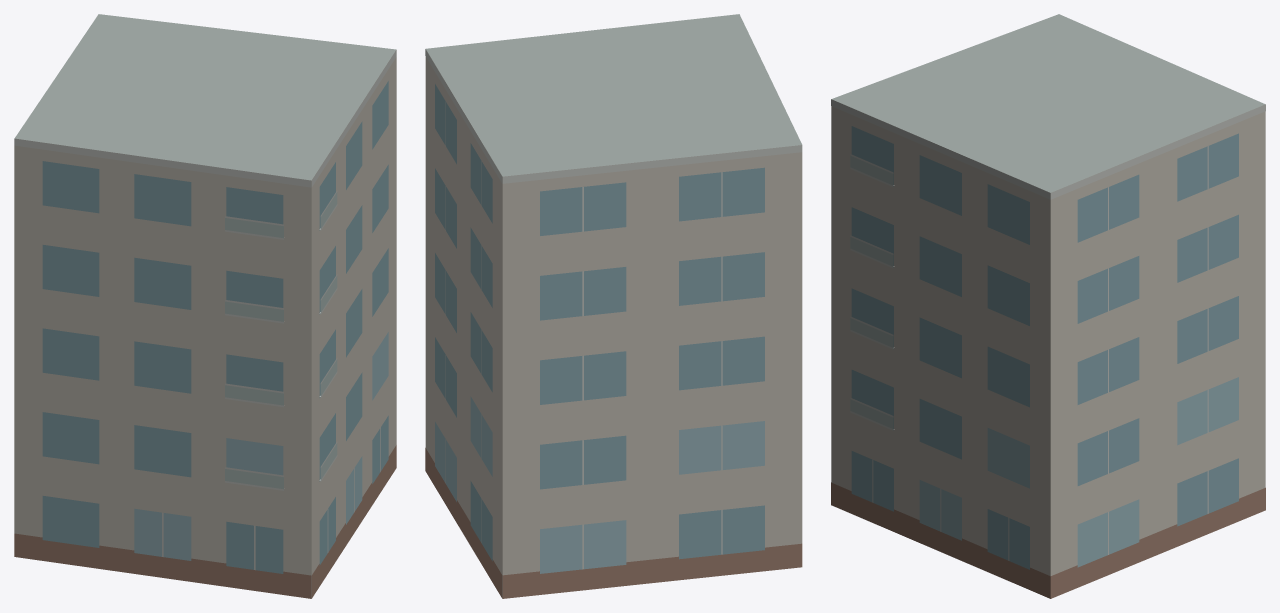
The model's file is survey-upis-32686913.glb.
3 renders of one model, left to right at view 1: azimuth 30°, elevation 25°; view 2: azimuth 150°, elevation 25°; view 3: azimuth 270°, elevation 25°, orthographic. The views are drawn at different scales.
Visible parts, largest first — view 1: survey-upis-32686913.tmp; view 2: survey-upis-32686913.tmp; view 3: survey-upis-32686913.tmp.
Boxes of the visible parts, <box> form: survey-upis-32686913.tmp: <box>14,14,396,598</box>; survey-upis-32686913.tmp: <box>425,14,802,598</box>; survey-upis-32686913.tmp: <box>831,14,1265,598</box>.
Size of the model in its own units: 13.57 by 14.35 by 13.93.
